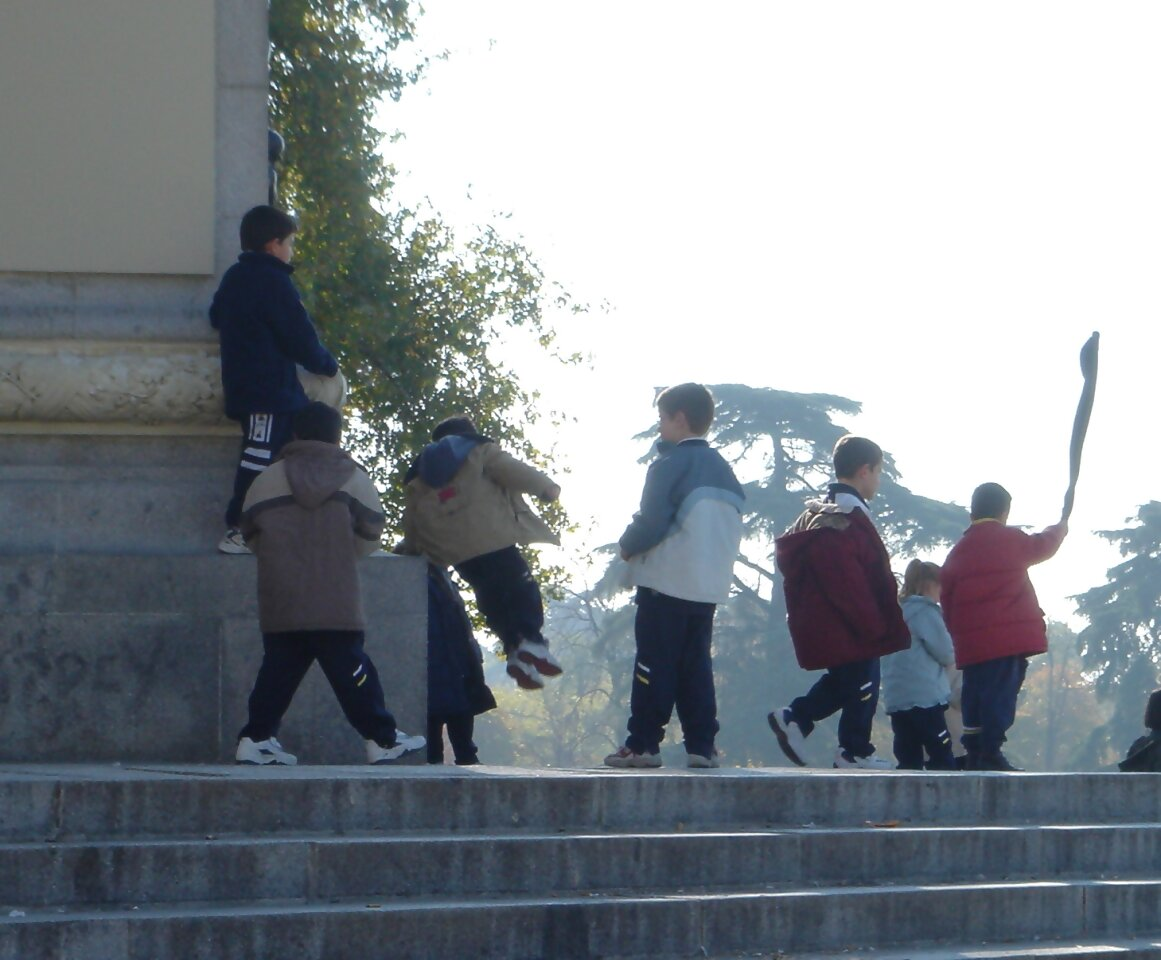person: (228, 403, 386, 779), (605, 378, 752, 779), (204, 195, 349, 548), (402, 411, 583, 685), (768, 431, 906, 778), (941, 480, 1086, 773)
